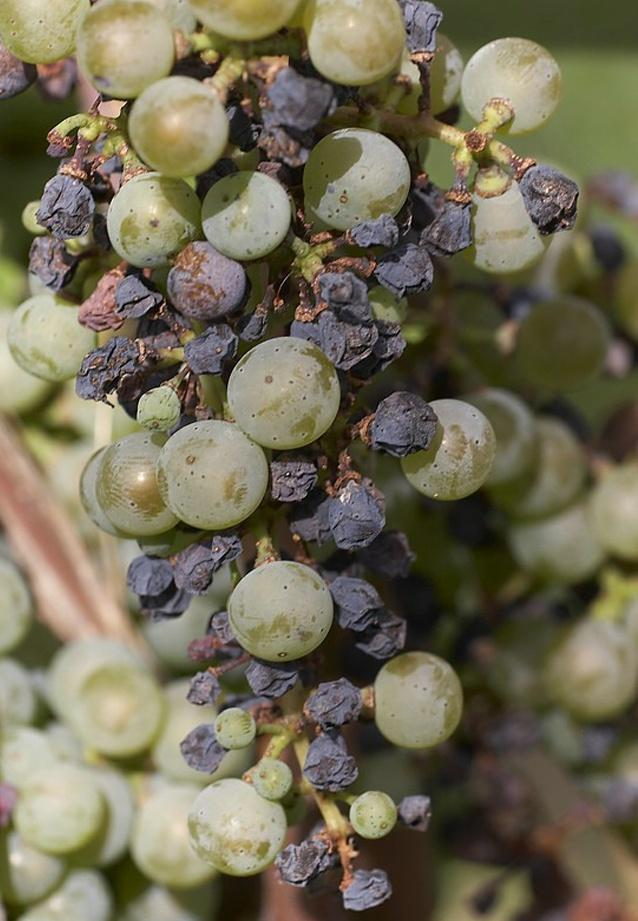Grape Rotten: (2, 1, 636, 916)
